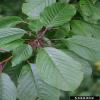Cherry leaf: (34, 45, 89, 92), (16, 62, 62, 99), (36, 1, 78, 31), (60, 34, 99, 61), (0, 24, 30, 46), (9, 43, 33, 68)
